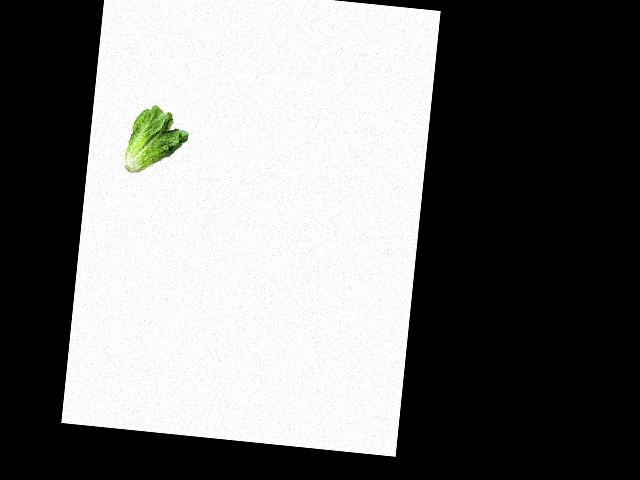lettuce: (120, 103, 194, 176)
